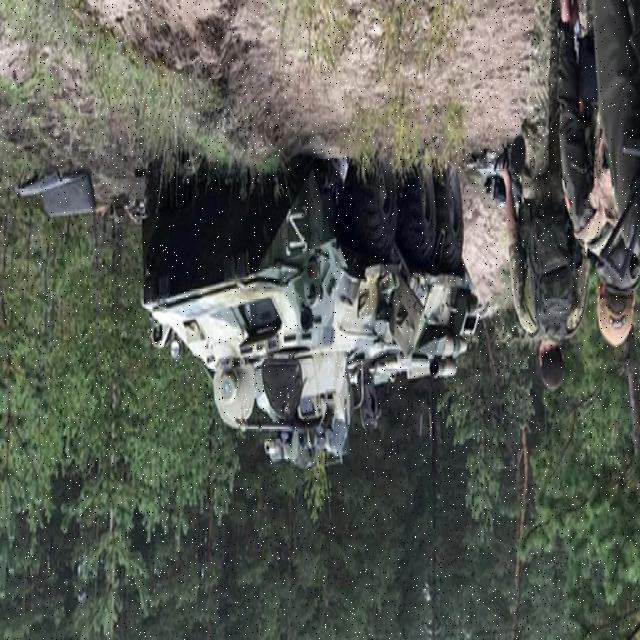APC-IFV: (139, 151, 475, 480)
